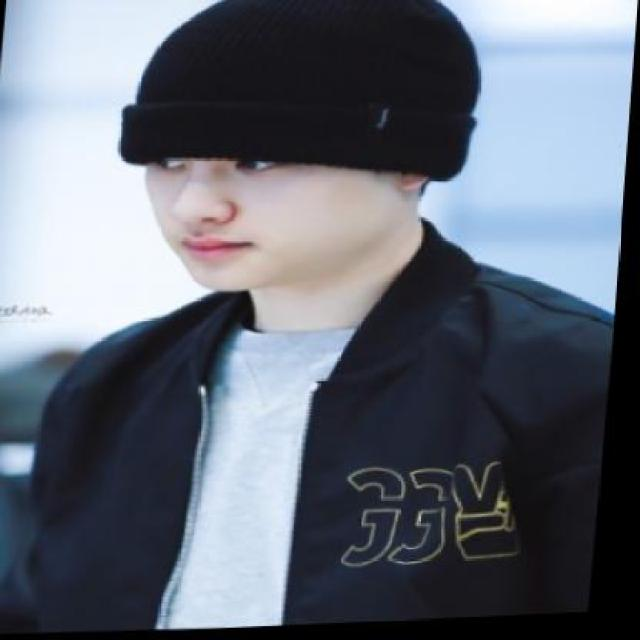hat: (108, 0, 500, 197)
